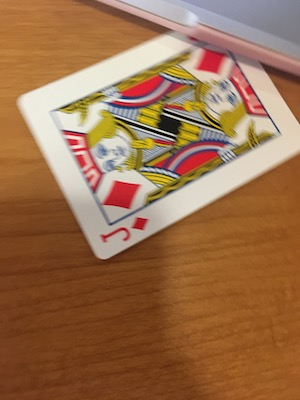JackOfDiamonds: (17, 22, 300, 266)
